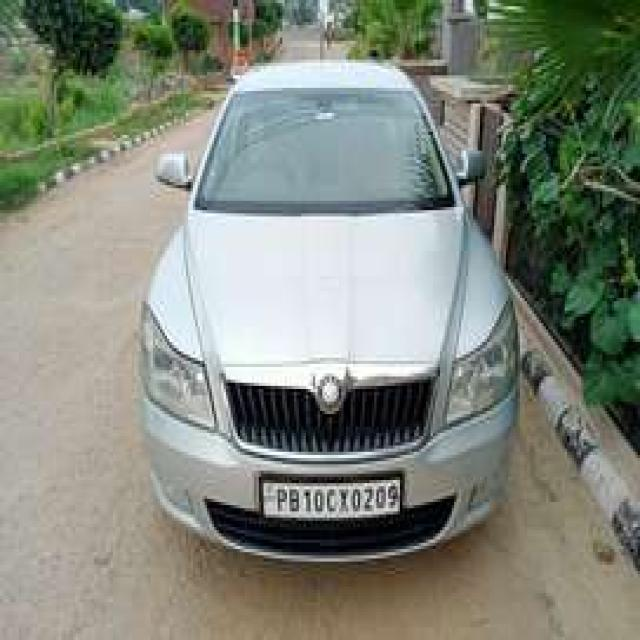licenseplate: (256, 470, 404, 520)
